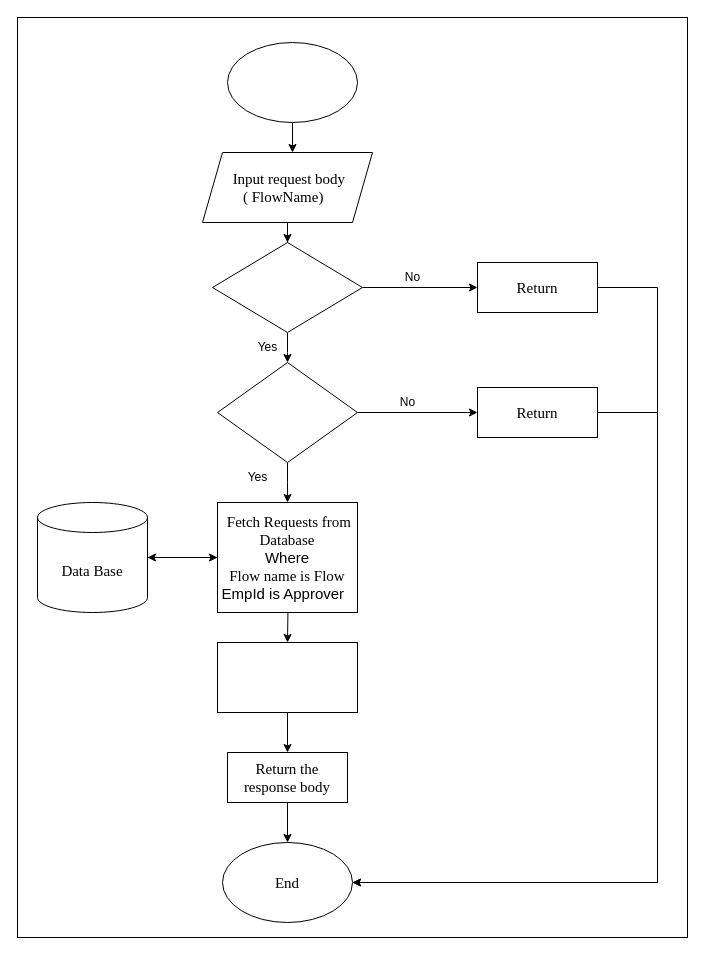
Some shapes in this 705 by 955 pixel diagram are drawn without their labels. The centre of each missing label's shape, as x and y in pixels:
"Flow name exist" goes at point (287, 412).
"Preparing the response body" goes at point (287, 677).
"Start" goes at point (292, 82).
"Valid request body" goes at point (287, 287).
